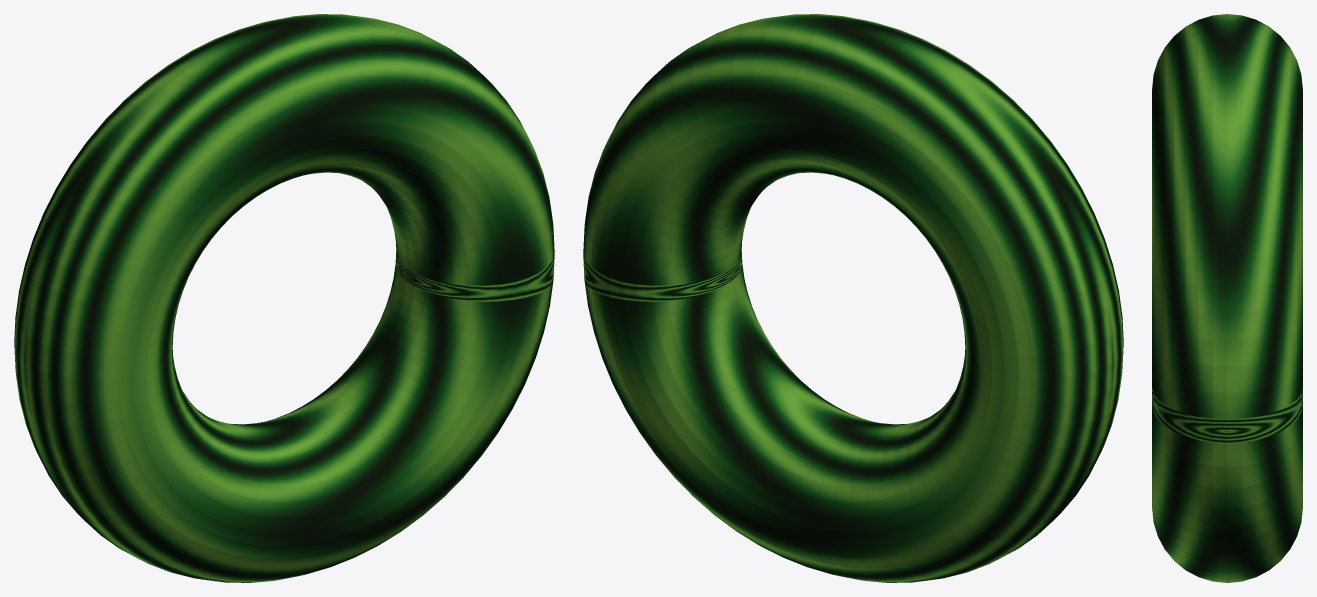
The model's file is torus-forest.glb.
The picture shows the model from 3 angles, left to right: view 1: azimuth 30°, elevation 25°; view 2: azimuth 150°, elevation 25°; view 3: azimuth 270°, elevation 25°; orthographic projection. The views are drawn at different scales.
Parts seen in each view (by area): view 1: world; view 2: world; view 3: world.
Boxes of the visible parts, x1,y1,x2,y2 form: world: (14,14,554,582); world: (583,14,1123,582); world: (1152,14,1302,582).
Bounding box in the file's own units: 1.36 × 1.36 × 0.36.
1 material, 1 textured.
